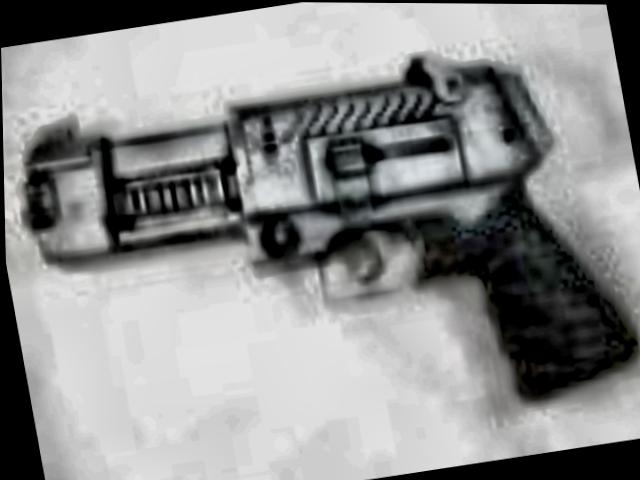pistol: (7, 33, 640, 471)
